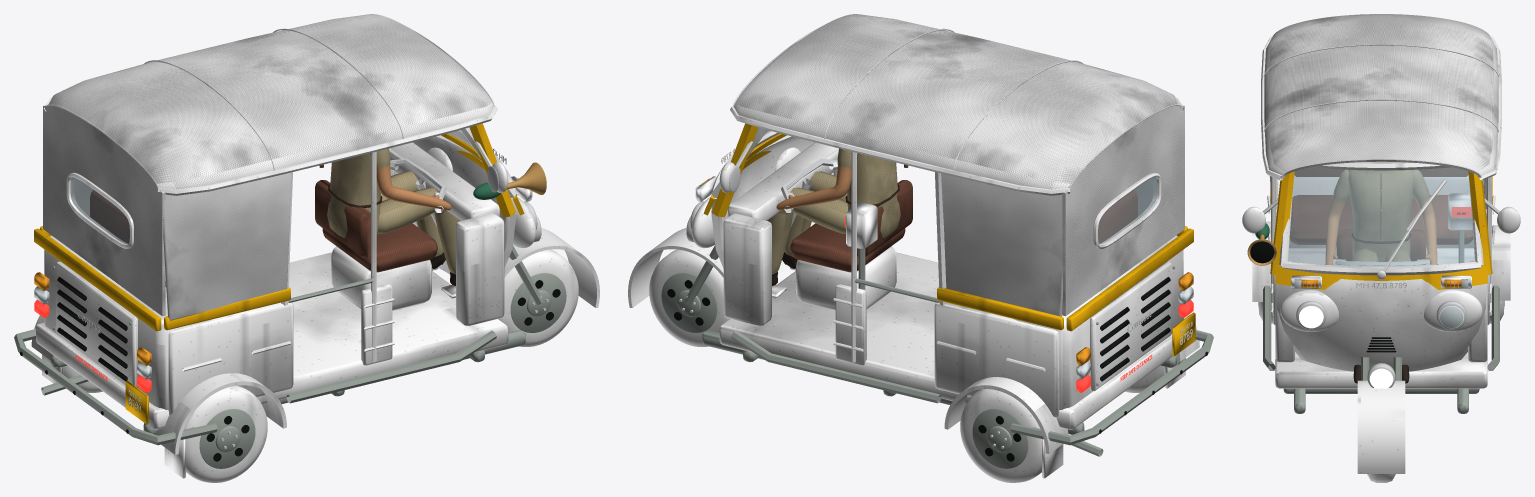
Rendered from rickshaw.glb.
The picture shows the model from 3 angles, left to right: view 1: azimuth 30°, elevation 25°; view 2: azimuth 150°, elevation 25°; view 3: azimuth 270°, elevation 25°; orthographic projection. The views are drawn at different scales.
Parts seen in each view (by area): view 1: Auto Rickshaw | approx 2.85 m × 1.55 m × 2.0 m__canopy_black, Auto Rickshaw | approx 2.85 m × 1.55 m × 2.0 m__body_black, Auto Rickshaw | approx 2.85 m × 1.55 m × 2.0 m__wheel_steel, Auto Rickshaw | approx 2.85 m × 1.55 m × 2.0 m__tyre, driver__cloth_#c9b98f, Auto Rickshaw | approx 2.85 m × 1.55 m × 2.0 m__body_yellow, Auto Rickshaw | approx 2.85 m × 1.55 m × 2.0 m__seat_brown, Auto Rickshaw | approx 2.85 m × 1.55 m × 2.0 m__recess_dark, Auto Rickshaw | approx 2.85 m × 1.55 m × 2.0 m__glass, Auto Rickshaw | approx 2.85 m × 1.55 m × 2.0 m__chrome, Brass trumpet horn; view 2: Auto Rickshaw | approx 2.85 m × 1.55 m × 2.0 m__canopy_black, Auto Rickshaw | approx 2.85 m × 1.55 m × 2.0 m__body_black, Auto Rickshaw | approx 2.85 m × 1.55 m × 2.0 m__wheel_steel, Auto Rickshaw | approx 2.85 m × 1.55 m × 2.0 m__tyre, driver__cloth_#c9b98f, Auto Rickshaw | approx 2.85 m × 1.55 m × 2.0 m__body_yellow, Auto Rickshaw | approx 2.85 m × 1.55 m × 2.0 m__seat_brown, Auto Rickshaw | approx 2.85 m × 1.55 m × 2.0 m__recess_dark, Auto Rickshaw | approx 2.85 m × 1.55 m × 2.0 m__glass, Auto Rickshaw | approx 2.85 m × 1.55 m × 2.0 m__chrome; view 3: Auto Rickshaw | approx 2.85 m × 1.55 m × 2.0 m__canopy_black, Auto Rickshaw | approx 2.85 m × 1.55 m × 2.0 m__body_black, Auto Rickshaw | approx 2.85 m × 1.55 m × 2.0 m__glass, driver__cloth_#c9b98f, Auto Rickshaw | approx 2.85 m × 1.55 m × 2.0 m__seat_brown, Auto Rickshaw | approx 2.85 m × 1.55 m × 2.0 m__tyre, Auto Rickshaw | approx 2.85 m × 1.55 m × 2.0 m__body_yellow, Auto Rickshaw | approx 2.85 m × 1.55 m × 2.0 m__wheel_steel, Auto Rickshaw | approx 2.85 m × 1.55 m × 2.0 m__chrome, Auto Rickshaw | approx 2.85 m × 1.55 m × 2.0 m__glow_headlig, Auto Rickshaw | approx 2.85 m × 1.55 m × 2.0 m__recess_dark, Auto Rickshaw | approx 2.85 m × 1.55 m × 2.0 m__lamp_clear (+1 smaller).
Boxes of the visible parts, x1,y1,x2,y2 form: Auto Rickshaw | approx 2.85 m × 1.55 m × 2.0 m__canopy_black: (43, 14, 495, 320); Auto Rickshaw | approx 2.85 m × 1.55 m × 2.0 m__body_black: (31, 97, 599, 454); Auto Rickshaw | approx 2.85 m × 1.55 m × 2.0 m__wheel_steel: (14, 245, 566, 468); Auto Rickshaw | approx 2.85 m × 1.55 m × 2.0 m__tyre: (42, 127, 578, 482); driver__cloth_#c9b98f: (327, 148, 460, 285); Auto Rickshaw | approx 2.85 m × 1.55 m × 2.0 m__body_yellow: (34, 123, 524, 424); Auto Rickshaw | approx 2.85 m × 1.55 m × 2.0 m__seat_brown: (90, 164, 437, 286); Auto Rickshaw | approx 2.85 m × 1.55 m × 2.0 m__recess_dark: (20, 277, 560, 461); Auto Rickshaw | approx 2.85 m × 1.55 m × 2.0 m__glass: (70, 130, 463, 244); Auto Rickshaw | approx 2.85 m × 1.55 m × 2.0 m__chrome: (77, 141, 548, 448); Brass trumpet horn: (506, 162, 546, 194); Auto Rickshaw | approx 2.85 m × 1.55 m × 2.0 m__canopy_black: (732, 14, 1184, 316); Auto Rickshaw | approx 2.85 m × 1.55 m × 2.0 m__body_black: (628, 97, 1199, 453); Auto Rickshaw | approx 2.85 m × 1.55 m × 2.0 m__wheel_steel: (661, 245, 1213, 468); Auto Rickshaw | approx 2.85 m × 1.55 m × 2.0 m__tyre: (649, 127, 1185, 482); driver__cloth_#c9b98f: (767, 148, 900, 285); Auto Rickshaw | approx 2.85 m × 1.55 m × 2.0 m__body_yellow: (703, 123, 1195, 356); Auto Rickshaw | approx 2.85 m × 1.55 m × 2.0 m__seat_brown: (790, 164, 1137, 272); Auto Rickshaw | approx 2.85 m × 1.55 m × 2.0 m__recess_dark: (667, 277, 1207, 461); Auto Rickshaw | approx 2.85 m × 1.55 m × 2.0 m__glass: (764, 130, 1157, 244); Auto Rickshaw | approx 2.85 m × 1.55 m × 2.0 m__chrome: (679, 141, 1151, 448); Auto Rickshaw | approx 2.85 m × 1.55 m × 2.0 m__canopy_black: (1263, 14, 1499, 193); Auto Rickshaw | approx 2.85 m × 1.55 m × 2.0 m__body_black: (1242, 35, 1520, 473); Auto Rickshaw | approx 2.85 m × 1.55 m × 2.0 m__glass: (1287, 167, 1475, 266); driver__cloth_#c9b98f: (1325, 169, 1437, 383); Auto Rickshaw | approx 2.85 m × 1.55 m × 2.0 m__seat_brown: (1289, 167, 1473, 261); Auto Rickshaw | approx 2.85 m × 1.55 m × 2.0 m__tyre: (1258, 161, 1504, 482); Auto Rickshaw | approx 2.85 m × 1.55 m × 2.0 m__body_yellow: (1270, 171, 1492, 289); Auto Rickshaw | approx 2.85 m × 1.55 m × 2.0 m__wheel_steel: (1258, 230, 1504, 413); Auto Rickshaw | approx 2.85 m × 1.55 m × 2.0 m__chrome: (1248, 198, 1514, 387); Auto Rickshaw | approx 2.85 m × 1.55 m × 2.0 m__glow_headlig: (1299, 306, 1393, 388); Auto Rickshaw | approx 2.85 m × 1.55 m × 2.0 m__recess_dark: (1250, 212, 1465, 352); Auto Rickshaw | approx 2.85 m × 1.55 m × 2.0 m__lamp_clear: (1294, 279, 1468, 328).
Size of the model in its own units: 1.2 by 0.7578 by 0.6453.
28 materials, 7 textured.
